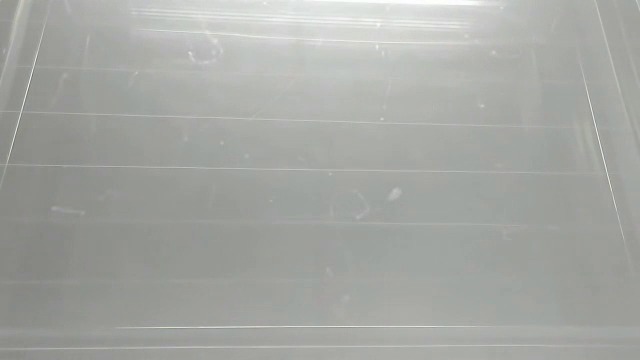alpha: (381, 182, 405, 206)
